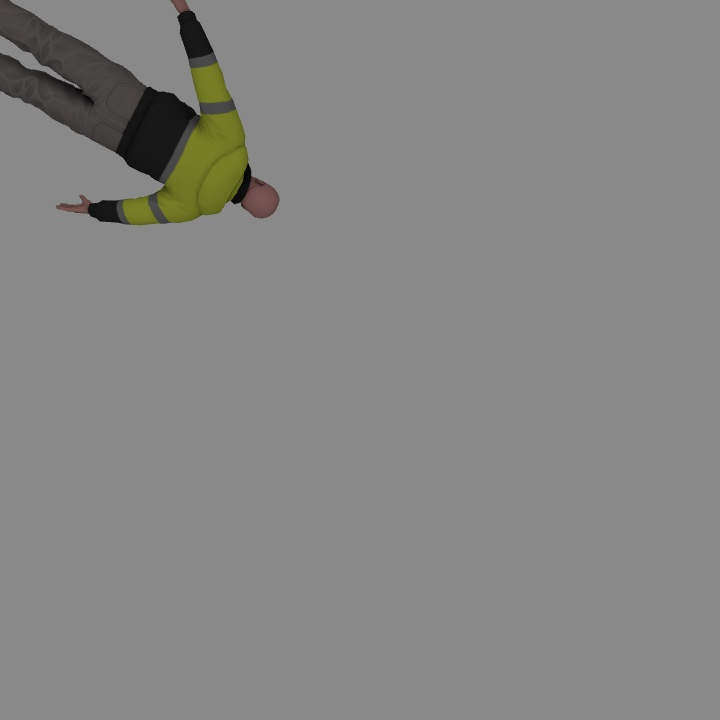victim: (1, 1, 278, 223)
